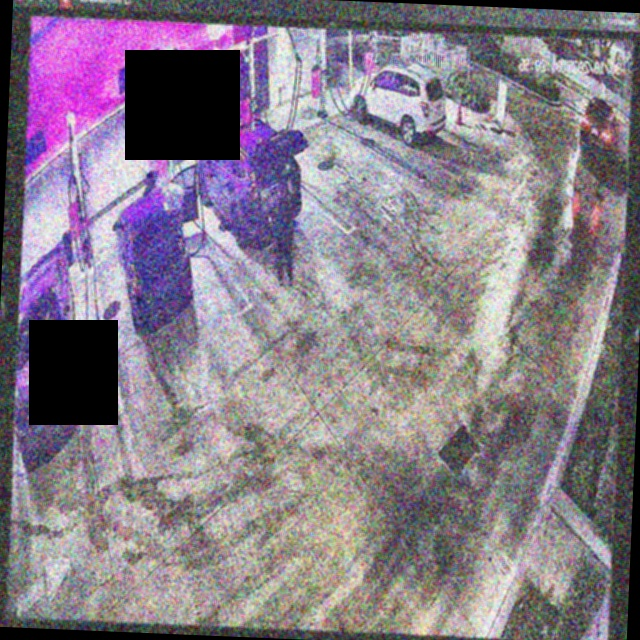Car: (191, 117, 306, 246), (110, 159, 195, 331), (346, 61, 448, 141)
